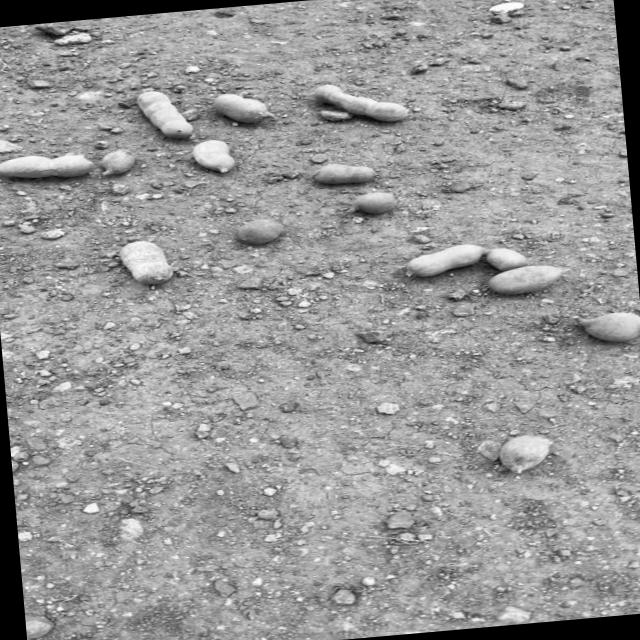tamarind: (308, 71, 417, 128), (124, 86, 194, 142), (0, 147, 98, 186), (114, 240, 180, 289), (397, 244, 488, 278), (576, 304, 640, 343), (180, 136, 247, 173), (486, 265, 568, 295), (205, 88, 266, 126), (306, 157, 374, 185), (354, 188, 406, 215), (99, 146, 146, 175), (237, 218, 280, 244), (488, 242, 528, 268)
